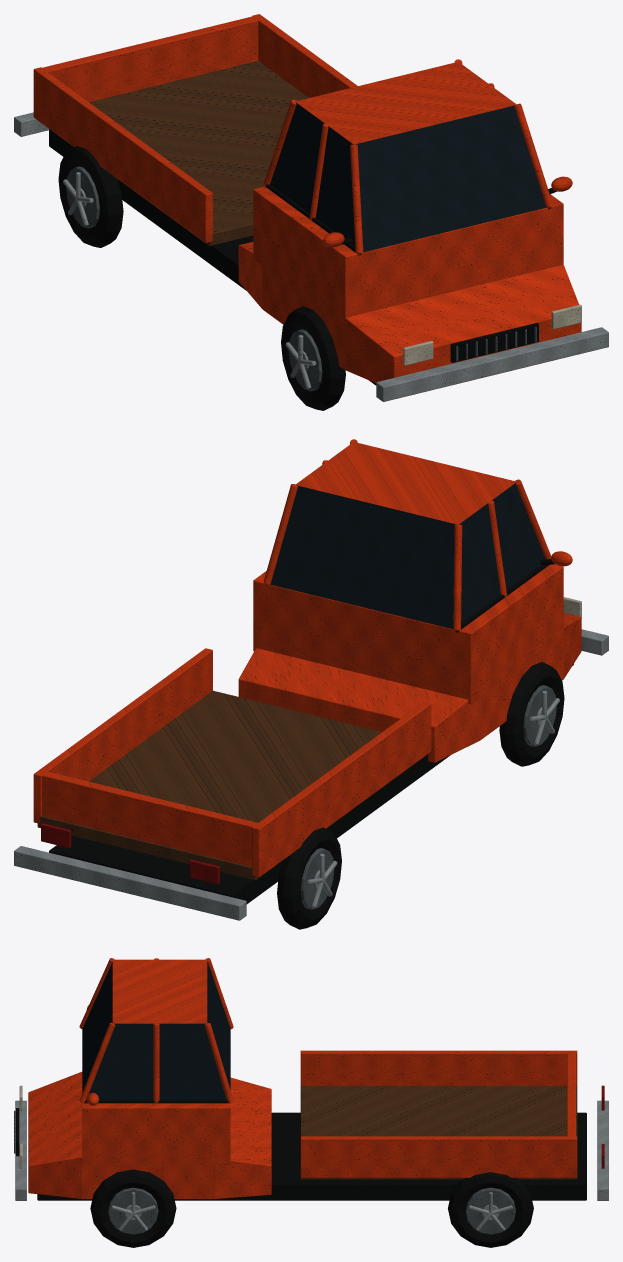
File: PROP-532EF1E6365B_lod0.glb
The picture shows the model from 3 angles, top to bottom: view 1: azimuth 30°, elevation 25°; view 2: azimuth 150°, elevation 25°; view 3: azimuth 270°, elevation 25°; orthographic projection. The views are drawn at different scales.
Visible parts, largest first — view 1: sloped_cabin_glazing.005, lower_cab_shell.003, bed_deck.002, shaped_body_panels.007, bed_sides.002, roof_panel.005, tailgate.002, tire.007, bumper.007, window_pillars.005, chassis.007, rim.007 (+4 smaller); view 2: sloped_cabin_glazing.005, bed_deck.002, lower_cab_shell.003, bed_sides.002, shaped_body_panels.007, tailgate.002, roof_panel.005, tire.007, chassis.007, bumper.007, window_pillars.005, rim.007 (+2 smaller); view 3: bed_sides.002, shaped_body_panels.007, bed_deck.002, sloped_cabin_glazing.005, lower_cab_shell.003, chassis.007, tire.007, roof_panel.005, rim.007, window_pillars.005, bumper.007, rim_spokes.007 (+2 smaller).
Boxes of the visible parts, bbox=[...] form: sloped_cabin_glazing.005: bbox=[270, 102, 546, 252]; lower_cab_shell.003: bbox=[253, 186, 563, 325]; bed_deck.002: bbox=[39, 61, 308, 246]; shaped_body_panels.007: bbox=[238, 242, 581, 382]; bed_sides.002: bbox=[33, 14, 357, 242]; roof_panel.005: bbox=[295, 61, 516, 144]; tailgate.002: bbox=[41, 16, 258, 101]; tire.007: bbox=[58, 146, 345, 410]; bumper.007: bbox=[14, 112, 608, 401]; window_pillars.005: bbox=[263, 59, 552, 253]; chassis.007: bbox=[49, 129, 376, 385]; rim.007: bbox=[66, 166, 322, 390]; sloped_cabin_glazing.005: bbox=[270, 482, 545, 628]; bed_deck.002: bbox=[37, 690, 426, 880]; lower_cab_shell.003: bbox=[253, 564, 563, 704]; bed_sides.002: bbox=[33, 648, 431, 877]; shaped_body_panels.007: bbox=[238, 613, 581, 762]; tailgate.002: bbox=[39, 771, 257, 866]; roof_panel.005: bbox=[295, 442, 516, 524]; tire.007: bbox=[277, 662, 564, 929]; chassis.007: bbox=[49, 664, 573, 904]; bumper.007: bbox=[14, 629, 608, 920]; window_pillars.005: bbox=[263, 439, 551, 630]; rim.007: bbox=[300, 685, 556, 909]; bed_sides.002: bbox=[300, 1050, 577, 1177]; shaped_body_panels.007: bbox=[28, 1071, 271, 1199]; bed_deck.002: bbox=[300, 1086, 577, 1179]; sloped_cabin_glazing.005: bbox=[82, 961, 230, 1099]; lower_cab_shell.003: bbox=[82, 1103, 230, 1164]; chassis.007: bbox=[37, 1112, 586, 1200]; tire.007: bbox=[90, 1169, 533, 1247]; roof_panel.005: bbox=[112, 959, 207, 1023]; rim.007: bbox=[108, 1187, 515, 1234]; window_pillars.005: bbox=[79, 958, 233, 1103]; bumper.007: bbox=[15, 1100, 608, 1200]; rim_spokes.007: bbox=[111, 1192, 512, 1231].
Size of the model in its own units: 2.56 by 2.62 by 6.61.
Materials: 9 (9 with a texture image).
